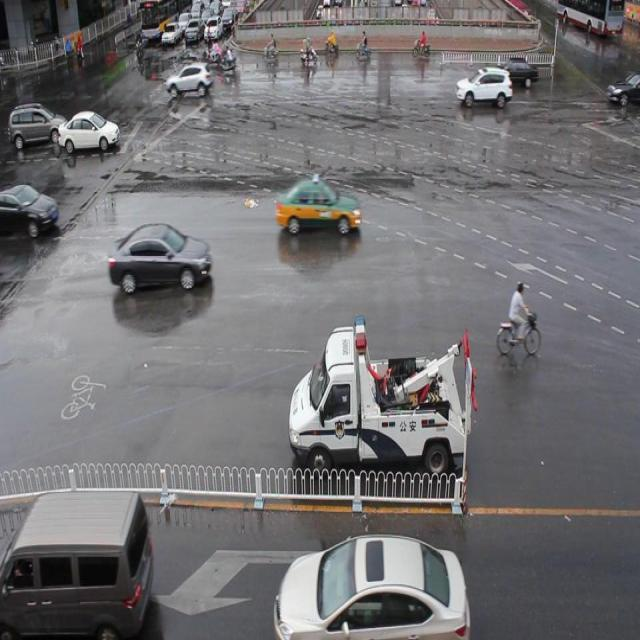car: (106, 220, 212, 292), (275, 174, 360, 236), (454, 66, 511, 109), (486, 56, 537, 94), (168, 61, 214, 99)
